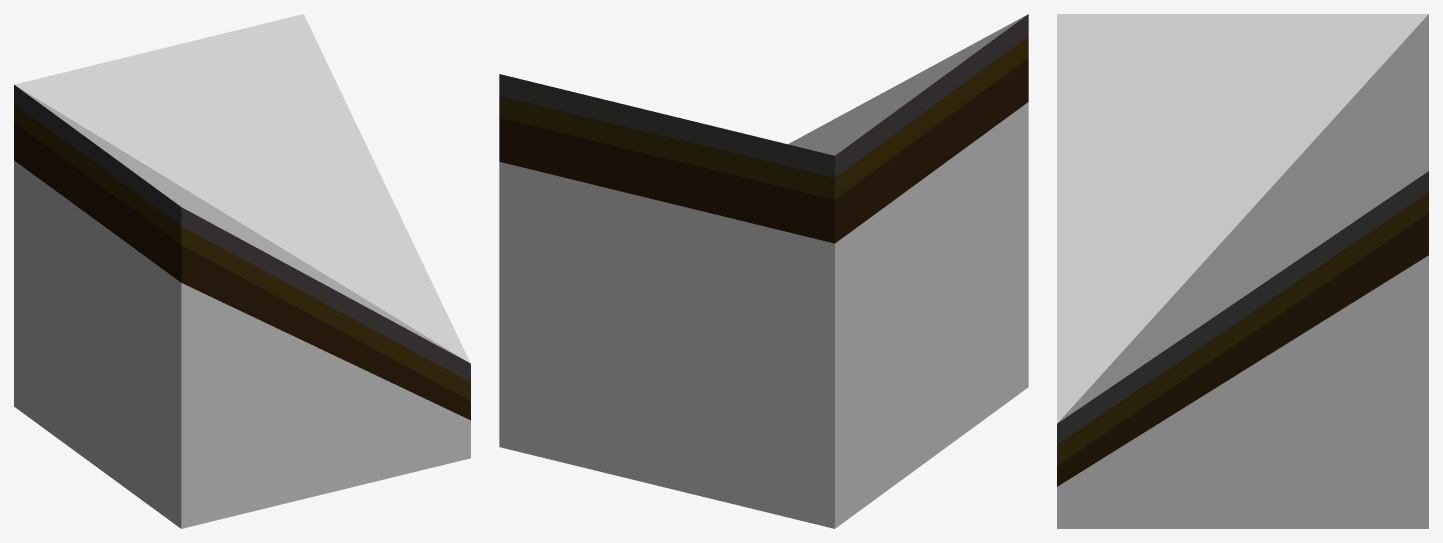
The model's file is model_loc_1640_f.obj.
3 renders of one model, left to right at view 1: azimuth 30°, elevation 25°; view 2: azimuth 150°, elevation 25°; view 3: azimuth 270°, elevation 25°, orthographic. The views are drawn at different scales.
Parts seen in each view (by area): view 1: 619; view 2: 619; view 3: 619.
Boxes of the visible parts, x1=… form: 619: x1=14, y1=14, x2=470, y2=528; 619: x1=499, y1=14, x2=1028, y2=528; 619: x1=1057, y1=14, x2=1428, y2=528.
Size of the model in its own units: 128 by 136 by 128.
